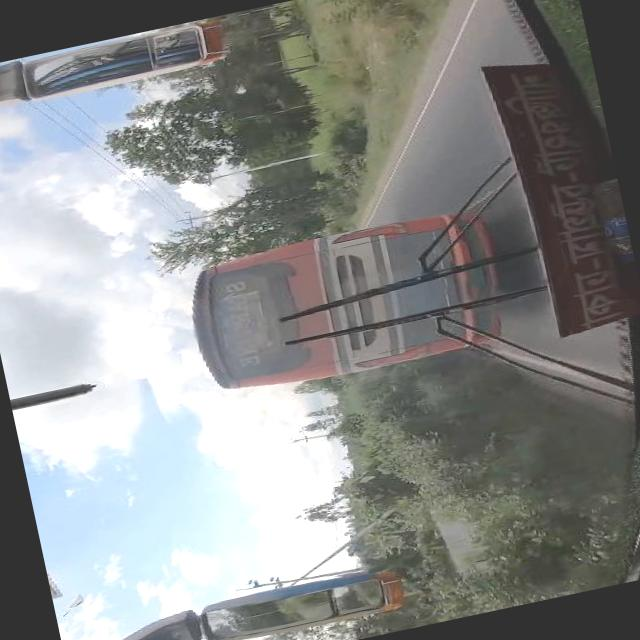bus: (180, 200, 512, 398)
